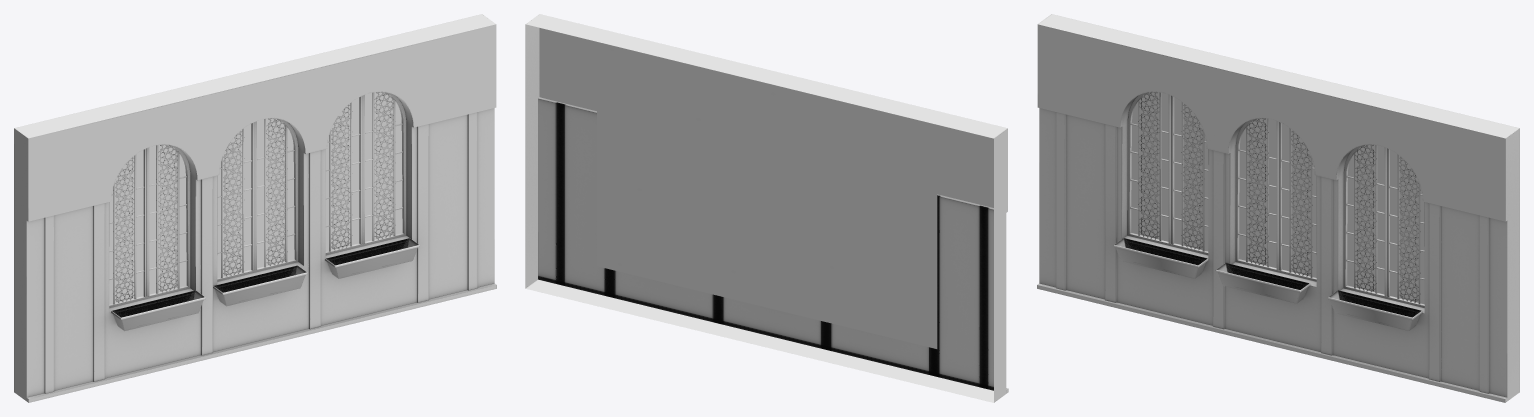
File: floorsecond_5.glb
3 renders of one model, left to right at view 1: azimuth 30°, elevation 25°; view 2: azimuth 150°, elevation 25°; view 3: azimuth 330°, elevation 25°, orthographic.
Parts seen in each view (by area): view 1: floorsecond_5; view 2: floorsecond_5; view 3: floorsecond_5.
Boxes of the visible parts, bbox=[...] form: floorsecond_5: bbox=[14, 14, 496, 402]; floorsecond_5: bbox=[525, 14, 1008, 402]; floorsecond_5: bbox=[1037, 14, 1519, 402].
Bounding box in the file's own units: 6.5 × 3.5 × 0.5402.
Materials: 1 (1 with a texture image).
